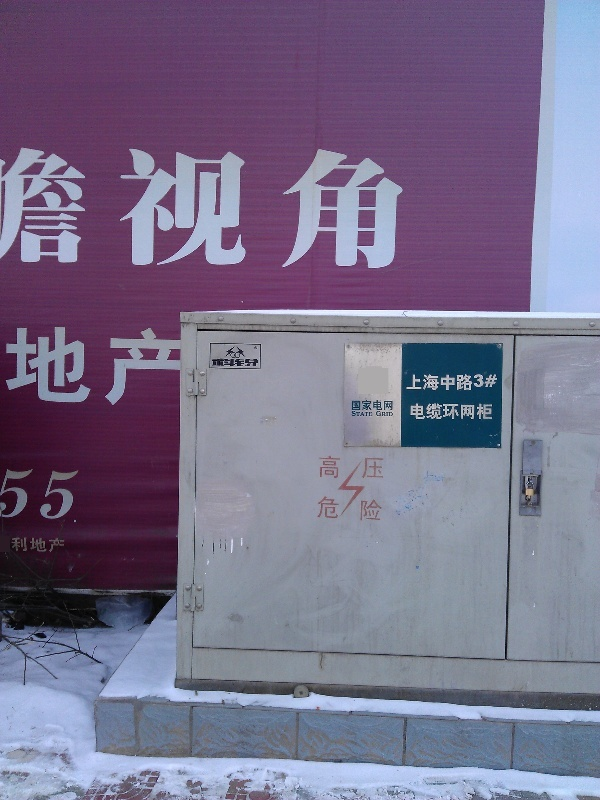text: (1, 147, 16, 272), (17, 147, 32, 272), (33, 147, 48, 272), (49, 147, 64, 272), (65, 147, 80, 272), (81, 147, 96, 272), (97, 147, 112, 272), (113, 147, 128, 272), (129, 147, 144, 272), (145, 147, 160, 272), (161, 147, 176, 272), (177, 147, 192, 272), (193, 147, 208, 272), (209, 147, 224, 272), (225, 147, 240, 272), (241, 147, 256, 272), (257, 147, 272, 272), (273, 147, 288, 272), (289, 147, 304, 272), (305, 147, 320, 272), (321, 147, 336, 272), (337, 147, 352, 272), (353, 147, 368, 272), (369, 147, 384, 272), (385, 147, 400, 272), (17, 325, 32, 408), (33, 325, 48, 408), (49, 325, 64, 408), (65, 325, 80, 408), (81, 325, 96, 408), (97, 325, 112, 408), (113, 325, 128, 408), (129, 325, 144, 408), (145, 325, 160, 408), (161, 325, 176, 408), (4, 325, 16, 408), (1, 469, 16, 521), (17, 469, 32, 521), (33, 469, 48, 521), (49, 469, 64, 521), (65, 469, 80, 521), (177, 325, 184, 408), (321, 494, 336, 524), (337, 494, 352, 524), (353, 494, 368, 524), (369, 494, 384, 524), (321, 454, 336, 481), (337, 454, 352, 481), (353, 454, 368, 481), (369, 454, 384, 481), (401, 147, 404, 272), (417, 402, 432, 421), (433, 402, 448, 421), (449, 402, 464, 421), (465, 402, 480, 421), (481, 374, 497, 391), (481, 402, 495, 421), (417, 374, 432, 391), (433, 374, 448, 391), (449, 374, 464, 391), (465, 374, 480, 391), (17, 538, 32, 553), (33, 538, 48, 553), (49, 538, 64, 553), (353, 400, 368, 412), (369, 400, 384, 412), (406, 374, 416, 391), (225, 357, 240, 368), (241, 357, 256, 368), (408, 402, 416, 421), (212, 357, 224, 368), (316, 494, 320, 524), (385, 400, 394, 412), (9, 538, 16, 553), (353, 411, 368, 418), (317, 454, 320, 481), (65, 538, 69, 553), (376, 411, 384, 417), (385, 411, 393, 417), (369, 411, 374, 418), (257, 357, 260, 368), (385, 494, 386, 524), (385, 454, 386, 481), (351, 400, 352, 412)
